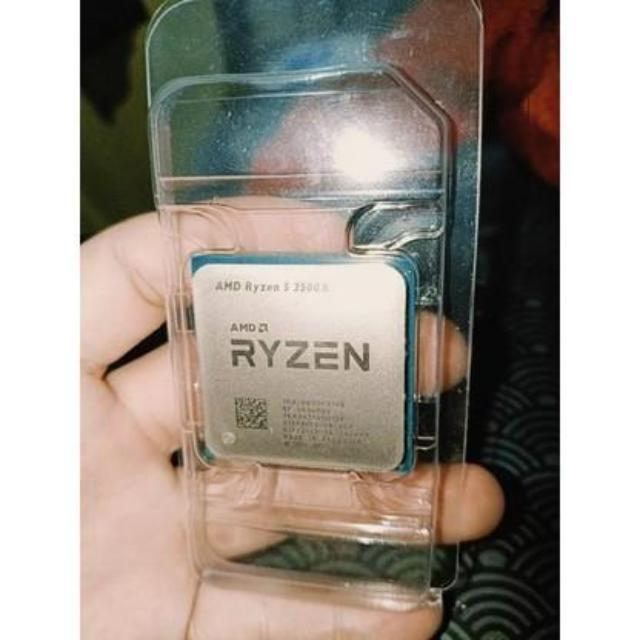CPU: (188, 252, 406, 466)
